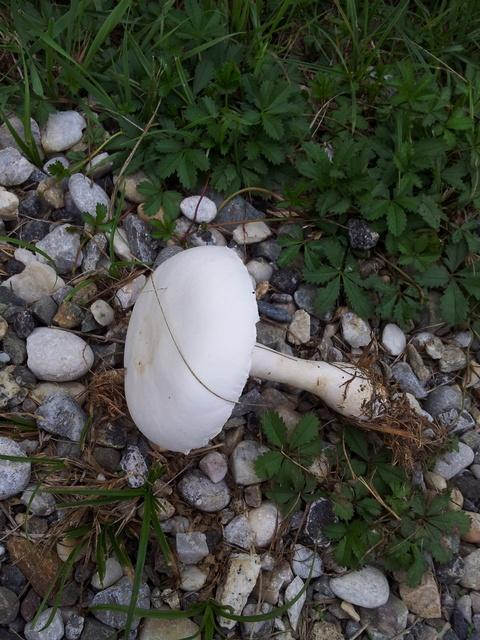Non-edible Mushroom: (121, 244, 435, 455)
